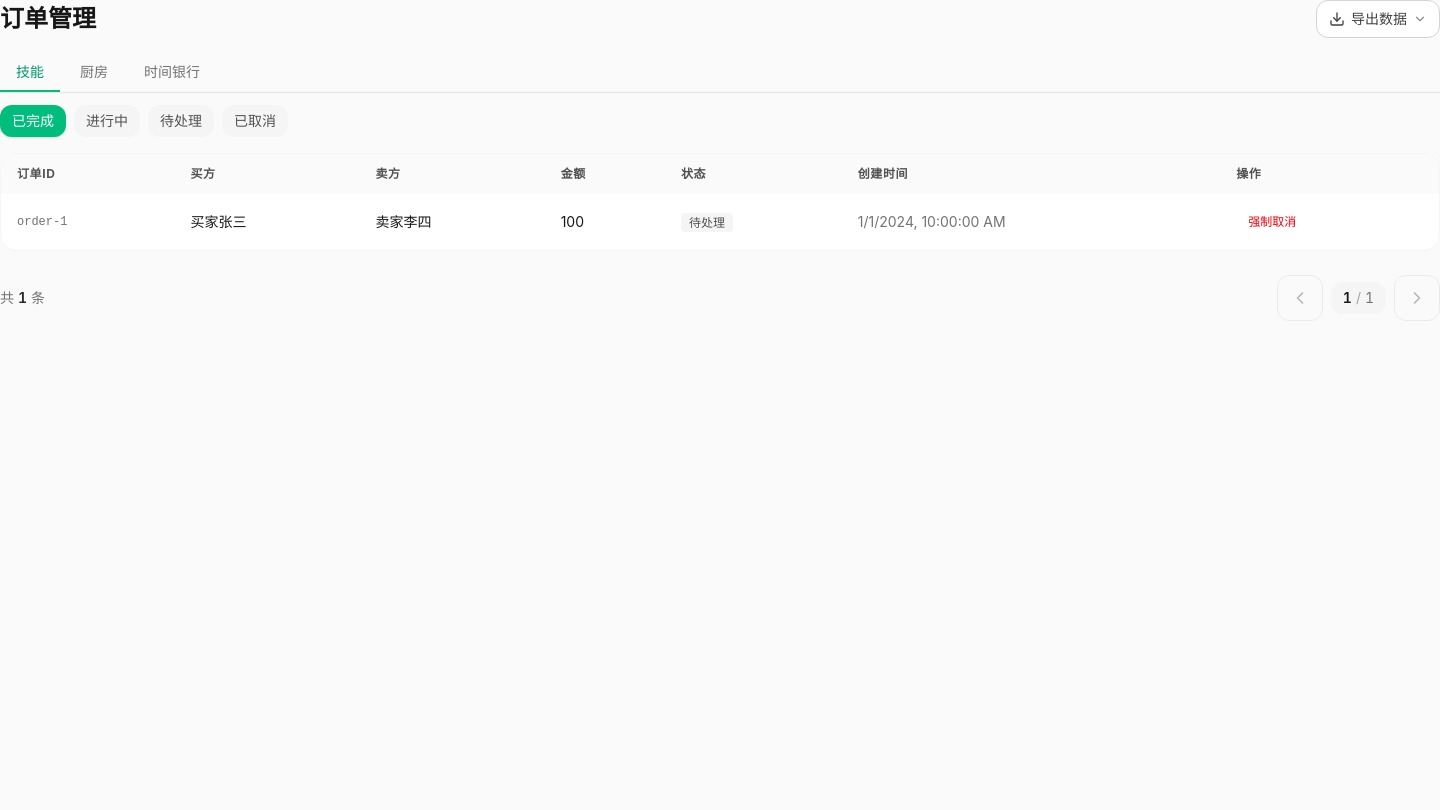
Test case: OrderManagement 强制取消订单弹窗 › 点击"强制取消"打开弹窗，显示订单 ID
Expected: the text "买家张三" is shown, left=174, top=194, right=360, bottom=250
Expected: the text "强制取消订单" is not shown
// 桌面+移动双布局有多个"强制取消"按钮，取第一个点击
Click the button "强制取消" at (1272, 222), box left=1236, top=206, right=1308, bottom=238
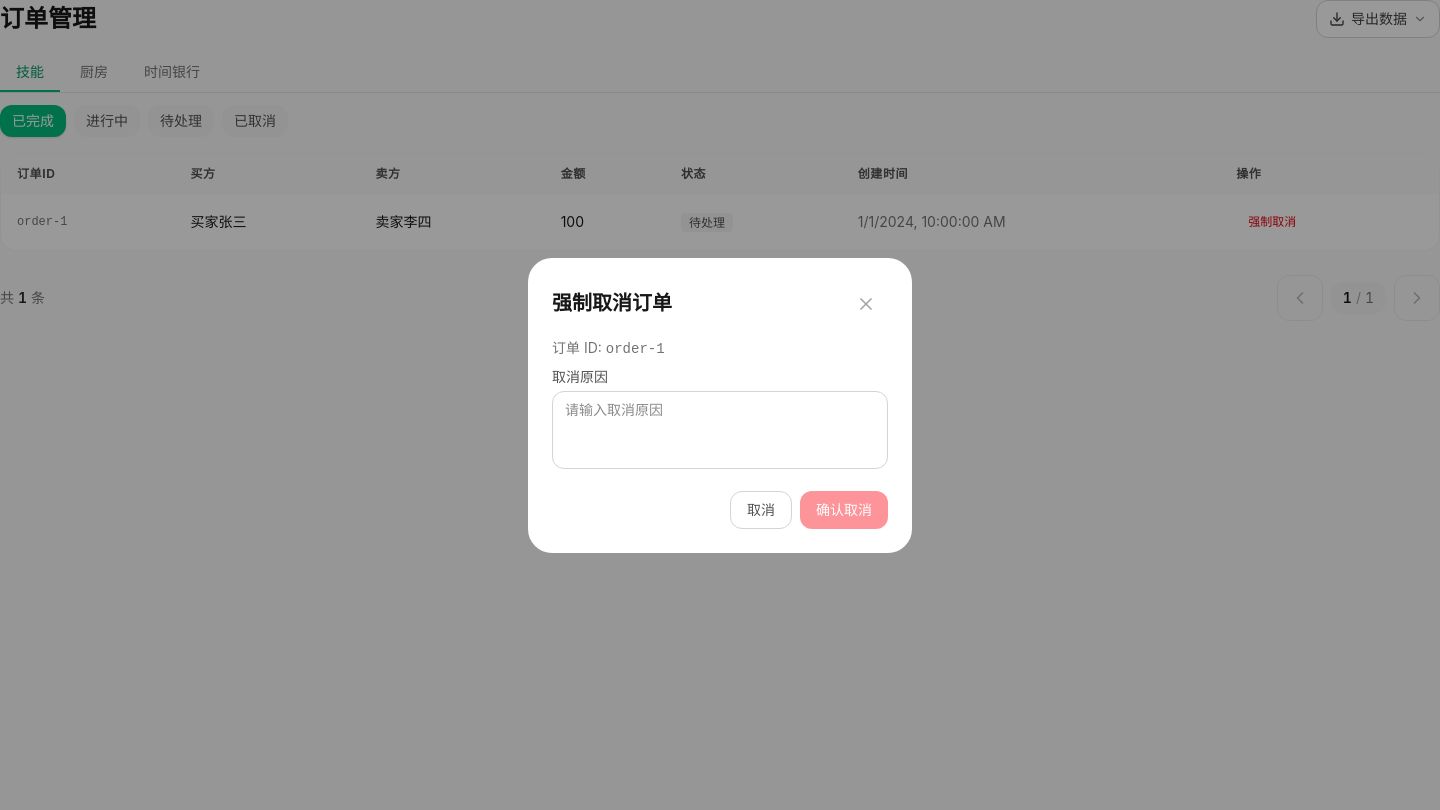
Expected: the text "order-1" is shown, left=1, top=194, right=174, bottom=250
Result: the heading "强制取消订单" is shown at left=552, top=291, right=672, bottom=316
